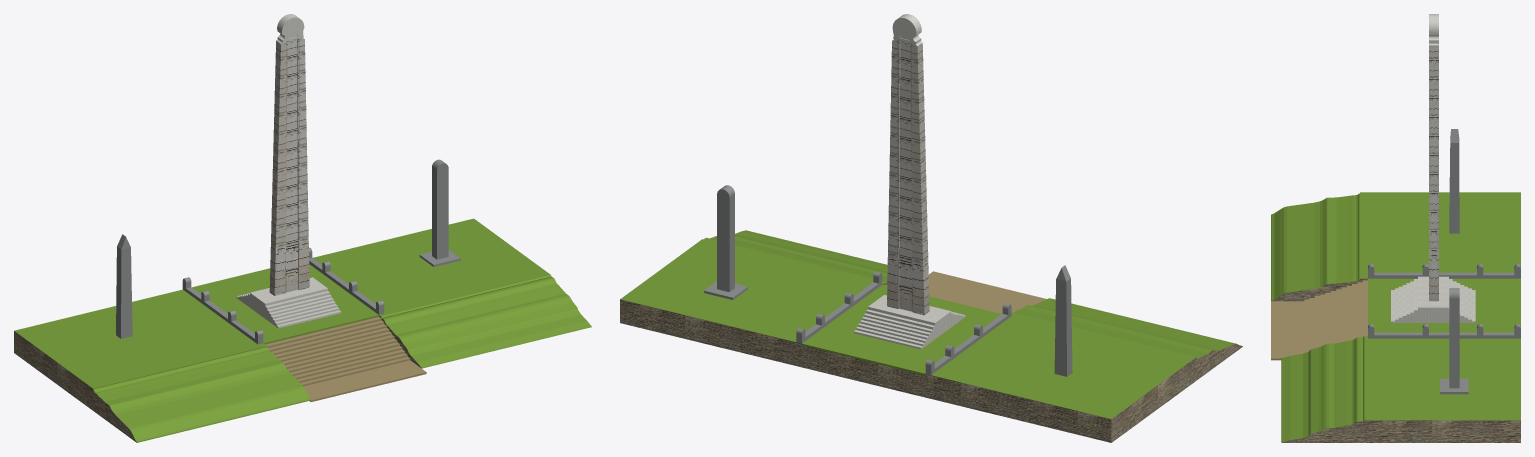
File: axum.obj
3 renders of one model, left to right at view 1: azimuth 30°, elevation 25°; view 2: azimuth 150°, elevation 25°; view 3: azimuth 270°, elevation 25°, orthographic. The views are drawn at different scales.
Parts seen in each view (by area): view 1: Mesh20 Group20 Model, Mesh19 Group19 Model, Mesh1 Group1 Model, Mesh9 Group9 Model, Mesh21 Group21 Model, Mesh22 Group22 Model, Mesh23 Group23 Model, Mesh2 Group2 Model, Mesh17 Group17 Model, Mesh18 Group18 Model, Mesh5 Group5 Model, Mesh8 Group8 Model (+2 smaller); view 2: Mesh20 Group20 Model, Mesh19 Group19 Model, Mesh1 Group1 Model, Mesh9 Group9 Model, Mesh26 Model, Mesh22 Group22 Model, Mesh23 Group23 Model, Mesh21 Group21 Model, Mesh16 Group16 Model, Mesh18 Group18 Model, Mesh17 Group17 Model; view 3: Mesh19 Group19 Model, Mesh20 Group20 Model, Mesh9 Group9 Model, Mesh1 Group1 Model, Mesh21 Group21 Model, Mesh22 Group22 Model, Mesh18 Group18 Model, Mesh17 Group17 Model, Mesh23 Group23 Model, Mesh2 Group2 Model, Mesh16 Group16 Model, Mesh24 Model (+12 smaller).
Boxes of the visible parts, bbox=[...] form: Mesh20 Group20 Model: bbox=[14, 289, 310, 442]; Mesh19 Group19 Model: bbox=[313, 218, 591, 368]; Mesh1 Group1 Model: bbox=[248, 14, 329, 309]; Mesh9 Group9 Model: bbox=[192, 264, 378, 344]; Mesh21 Group21 Model: bbox=[303, 360, 426, 401]; Mesh22 Group22 Model: bbox=[419, 159, 460, 266]; Mesh23 Group23 Model: bbox=[116, 234, 132, 338]; Mesh2 Group2 Model: bbox=[267, 294, 341, 328]; Mesh17 Group17 Model: bbox=[182, 277, 263, 344]; Mesh18 Group18 Model: bbox=[309, 248, 384, 314]; Mesh5 Group5 Model: bbox=[268, 320, 384, 351]; Mesh8 Group8 Model: bbox=[265, 317, 381, 347]; Mesh20 Group20 Model: bbox=[925, 298, 1242, 442]; Mesh19 Group19 Model: bbox=[620, 230, 887, 367]; Mesh1 Group1 Model: bbox=[866, 14, 953, 329]; Mesh9 Group9 Model: bbox=[802, 285, 1001, 375]; Mesh26 Model: bbox=[802, 345, 925, 397]; Mesh22 Group22 Model: bbox=[704, 185, 747, 299]; Mesh23 Group23 Model: bbox=[1054, 265, 1072, 376]; Mesh21 Group21 Model: bbox=[928, 271, 1046, 307]; Mesh16 Group16 Model: bbox=[854, 313, 932, 349]; Mesh18 Group18 Model: bbox=[796, 271, 882, 343]; Mesh17 Group17 Model: bbox=[925, 303, 1011, 374]; Mesh19 Group19 Model: bbox=[1281, 336, 1520, 442]; Mesh20 Group20 Model: bbox=[1271, 192, 1520, 301]; Mesh9 Group9 Model: bbox=[1368, 278, 1520, 332]; Mesh1 Group1 Model: bbox=[1414, 14, 1452, 312]; Mesh21 Group21 Model: bbox=[1271, 301, 1304, 360]; Mesh22 Group22 Model: bbox=[1440, 288, 1468, 394]; Mesh18 Group18 Model: bbox=[1368, 324, 1520, 338]; Mesh17 Group17 Model: bbox=[1368, 264, 1520, 278]; Mesh23 Group23 Model: bbox=[1449, 129, 1459, 233]; Mesh2 Group2 Model: bbox=[1391, 281, 1413, 322]; Mesh16 Group16 Model: bbox=[1452, 281, 1475, 322]; Mesh24 Model: bbox=[1414, 312, 1449, 322].
Bounding box in the file's own units: 42.14 × 27.39 × 19.51.
Materials: 7 (4 with a texture image).
